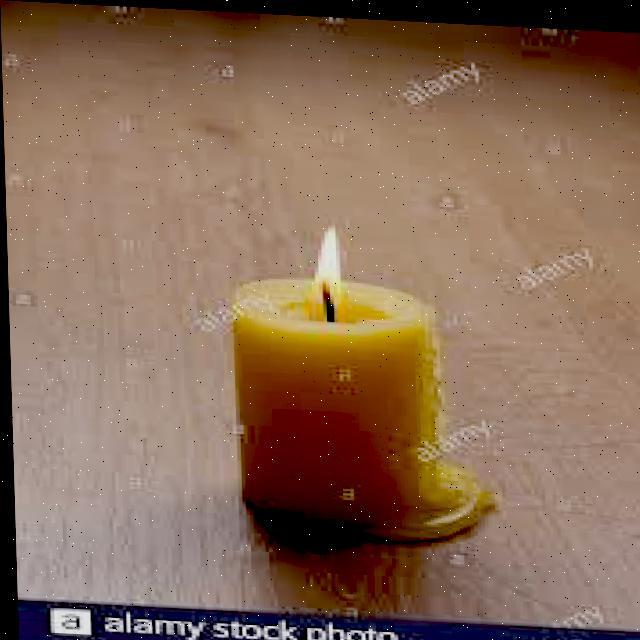Fire: (298, 217, 342, 290)
